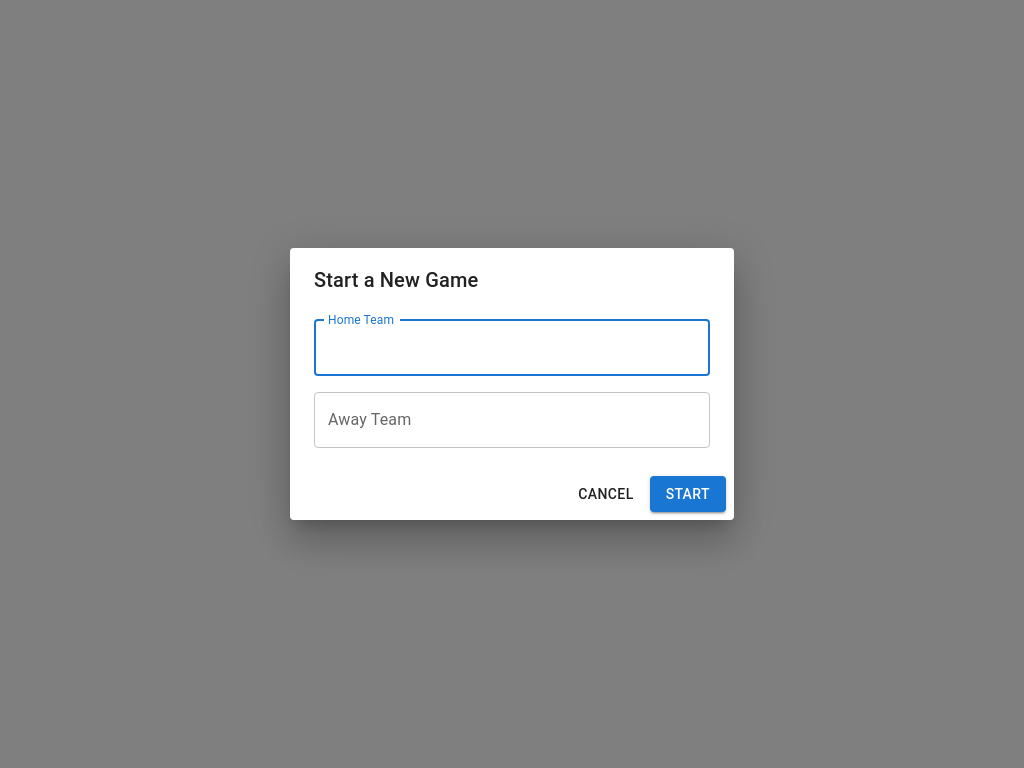
Test: StartGameDialog › error disappears on input after a failed submit
Click the button "Start" at (688, 494), box [650,476,726,512]
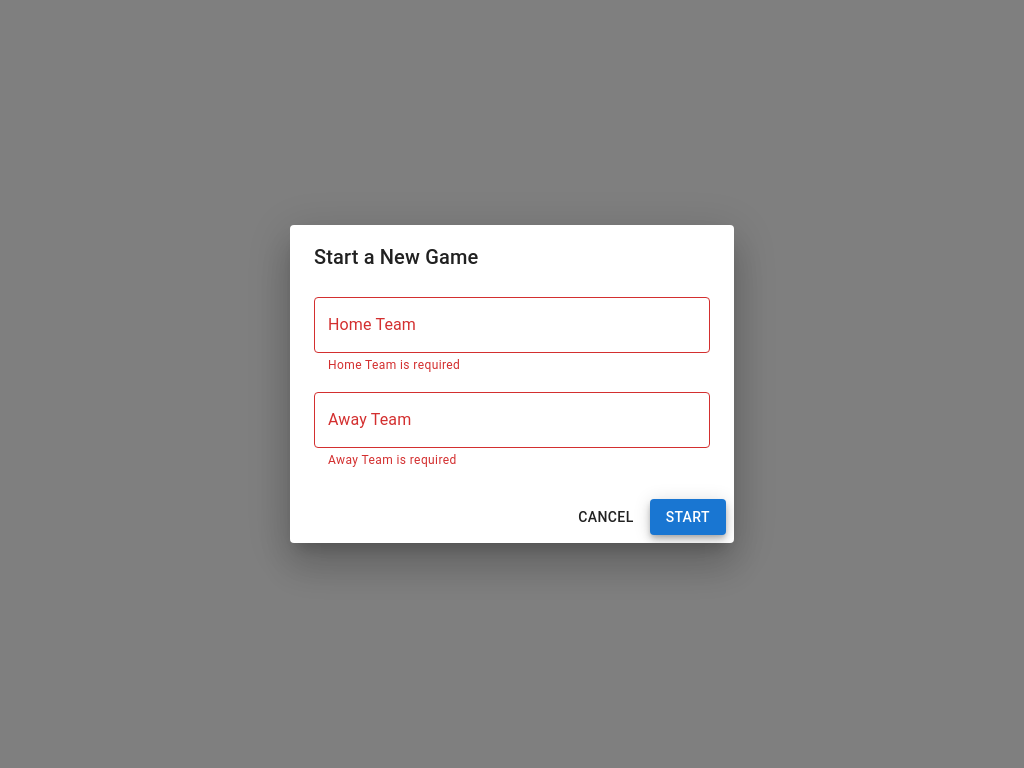
Expected: the text "Home Team is required" is shown, [328,358,460,372]
Expected: the text "Away Team is required" is shown, [328,453,457,467]
Type "Real Madrid" into the field labelled "Home Team" at (512, 325), box [314,297,710,353]
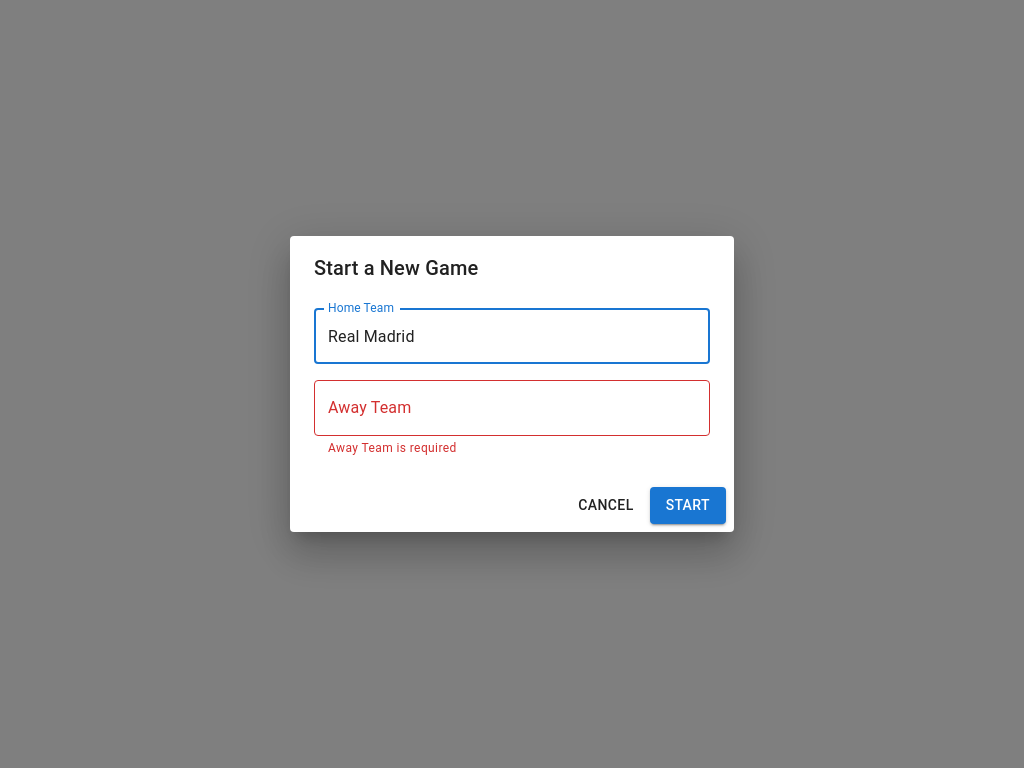
Expected: the text "Away Team is required" is shown, [328,441,457,455]
Expected: the text "Home Team is required" is gone
